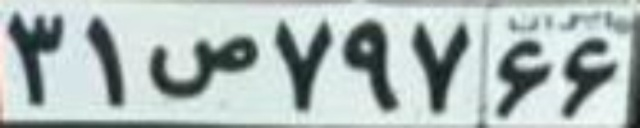1: (84, 15, 125, 106)
3: (8, 10, 64, 106)
6: (561, 37, 621, 118), (491, 38, 550, 118)
7: (410, 18, 476, 114), (273, 17, 335, 112)
9: (342, 19, 402, 111)
saat: (150, 33, 263, 98)
